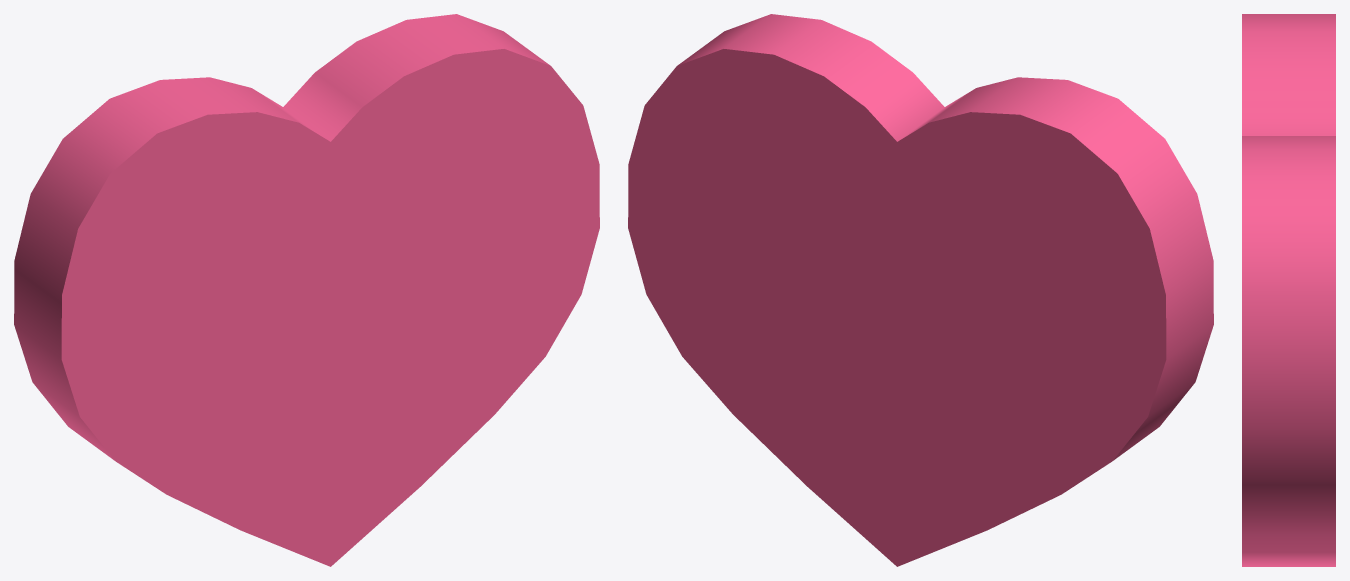
The model's file is Heart.FBX.
3 renders of one model, left to right at view 1: azimuth 30°, elevation 25°; view 2: azimuth 150°, elevation 25°; view 3: azimuth 270°, elevation 25°, orthographic.
Parts seen in each view (by area): view 1: Heart; view 2: Heart; view 3: Heart.
Part boxes in pixels (x1,y1,x2,y2): Heart: (14,14,599,566); Heart: (628,14,1213,566); Heart: (1242,14,1335,566).
Bounding box in the file's own units: 91.53 × 78.37 × 14.
